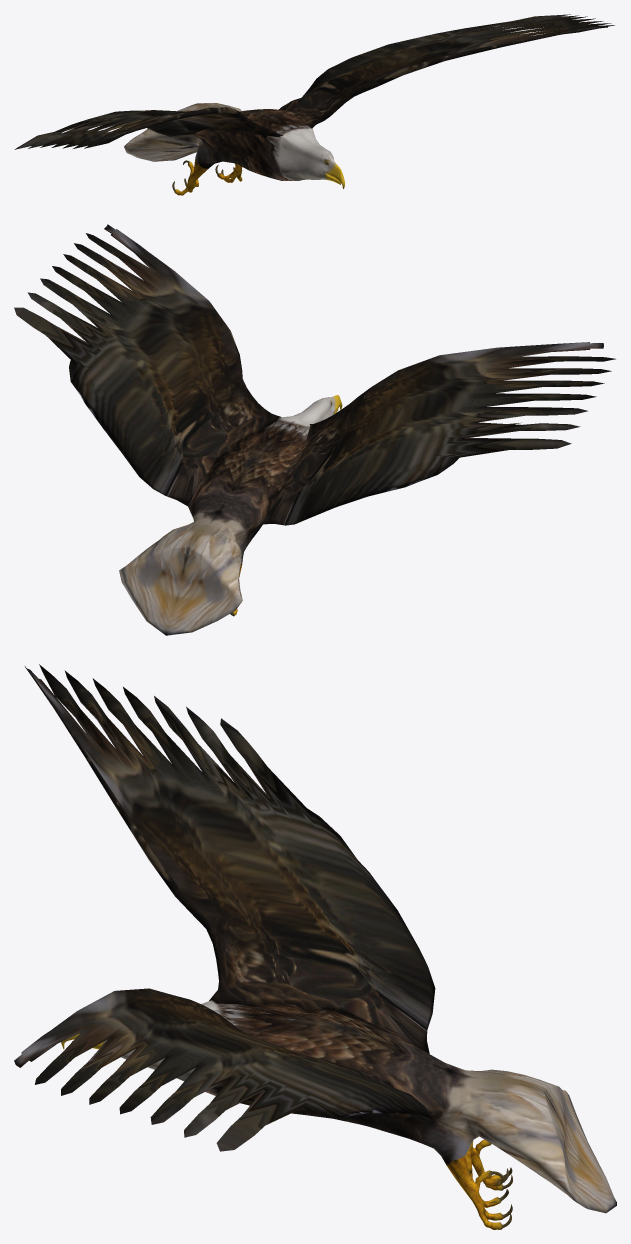
The model's file is Eagle-original_000024.obj.
The picture shows the model from 3 angles, top to bottom: view 1: azimuth 30°, elevation 25°; view 2: azimuth 150°, elevation 25°; view 3: azimuth 270°, elevation 25°; orthographic projection. The views are drawn at different scales.
Visible parts, largest first — view 1: Flugel_Plane.003; view 2: Flugel_Plane.003; view 3: Flugel_Plane.003.
Part boxes in pixels (bbox=[...]): Flugel_Plane.003: bbox=[14, 14, 614, 195]; Flugel_Plane.003: bbox=[14, 224, 615, 635]; Flugel_Plane.003: bbox=[14, 664, 616, 1229].
Bounding box in the file's own units: 10.62 × 3.96 × 6.25.
Materials: 1 (1 with a texture image).
